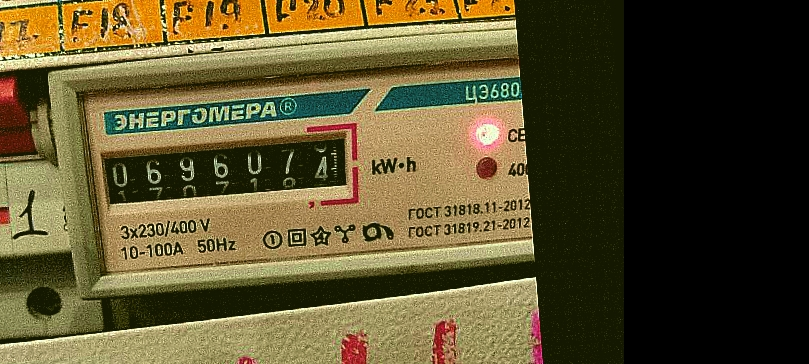0: (107, 159, 130, 189), (244, 145, 264, 176), (143, 157, 162, 184)
4: (311, 153, 330, 183)
6: (209, 148, 229, 180)
7: (277, 144, 297, 174)
9: (176, 153, 196, 182)
screen: (85, 118, 364, 223)
